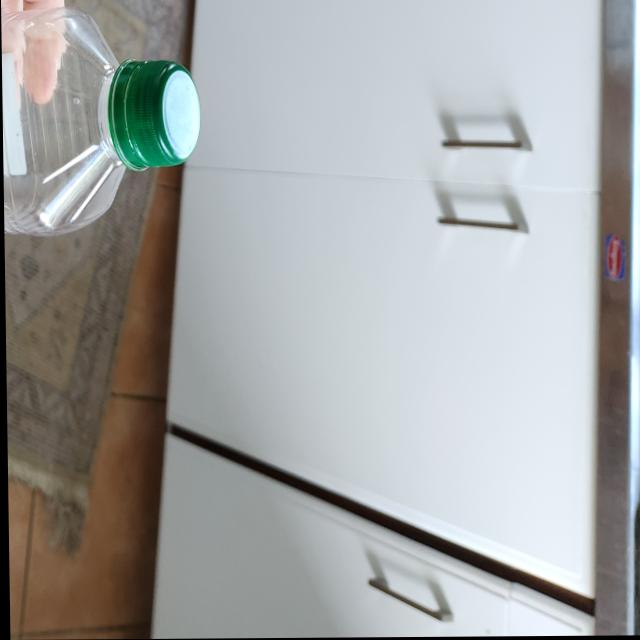vegetable oil: (0, 12, 202, 237)
